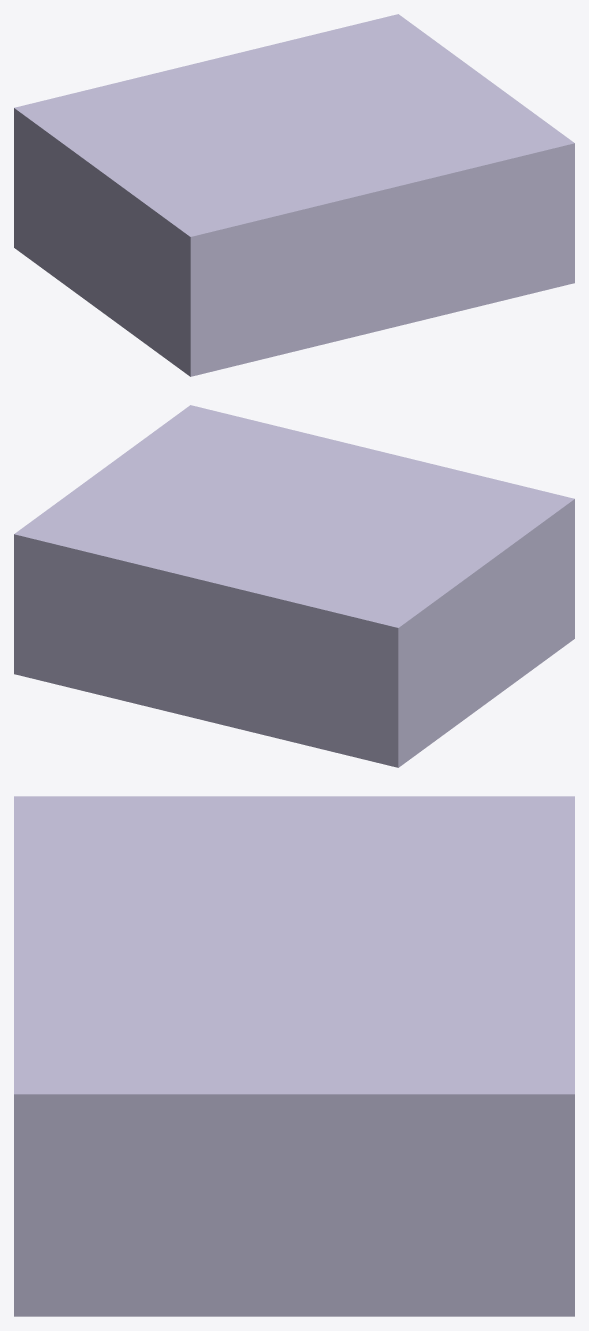
3 views of the same model, one above another, from view 1: azimuth 30°, elevation 25°; view 2: azimuth 150°, elevation 25°; view 3: azimuth 270°, elevation 25° (orthographic). The views are drawn at different scales.
Visible parts, largest first — view 1: Cube; view 2: Cube; view 3: Cube.
Part boxes in pixels (box(x1,y1,x2,y2)): Cube: box(14, 14, 574, 376); Cube: box(14, 405, 574, 767); Cube: box(14, 796, 574, 1316).
Bounding box in the file's own units: 19.04 × 6.62 × 15.14.
